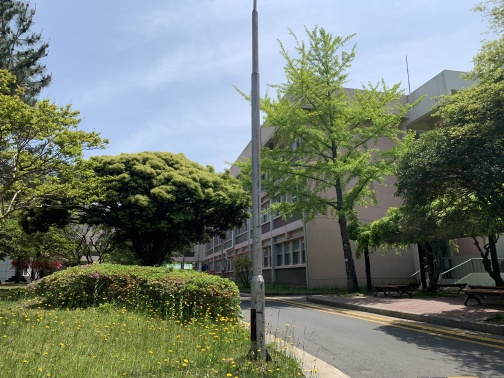College Of Education: (156, 49, 496, 320)
